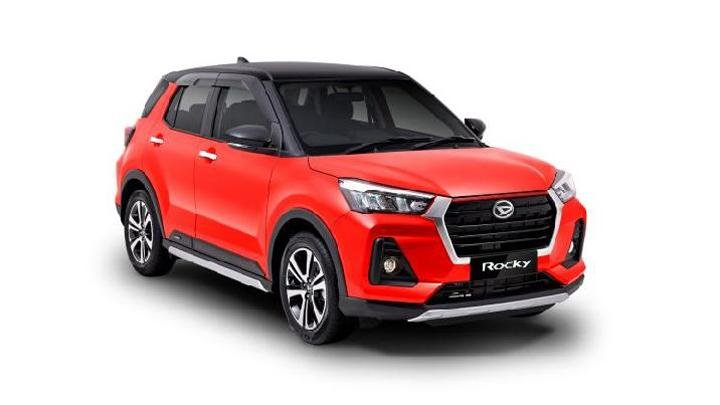mobil: (115, 20, 608, 368)
